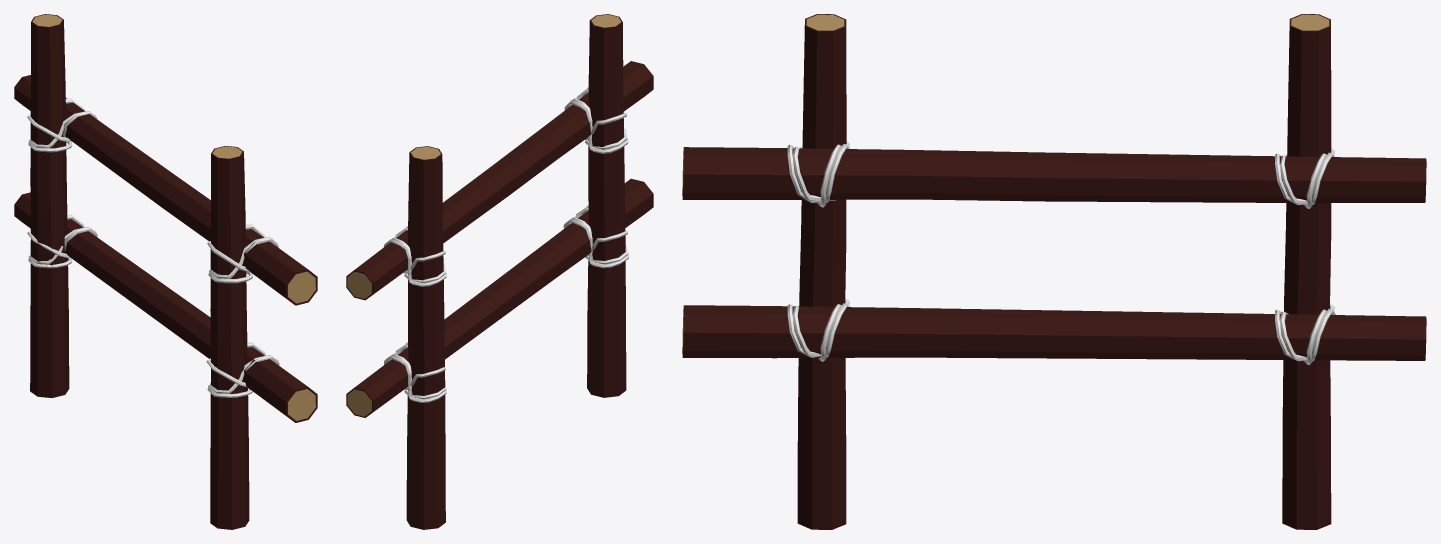
File: SM_Fence_001.fbx
3 views of the same model, side by side, from view 1: azimuth 30°, elevation 25°; view 2: azimuth 150°, elevation 25°; view 3: azimuth 270°, elevation 25° (orthographic). The views are drawn at different scales.
Visible parts, largest first — view 1: Fence; view 2: Fence; view 3: Fence.
Boxes of the visible parts, x1=… form: Fence: x1=14, y1=14, x2=317, y2=529; Fence: x1=346, y1=14, x2=653, y2=529; Fence: x1=682, y1=14, x2=1426, y2=529.
Size of what is drawn, in the model's own units: 23.6 by 140 by 190.
